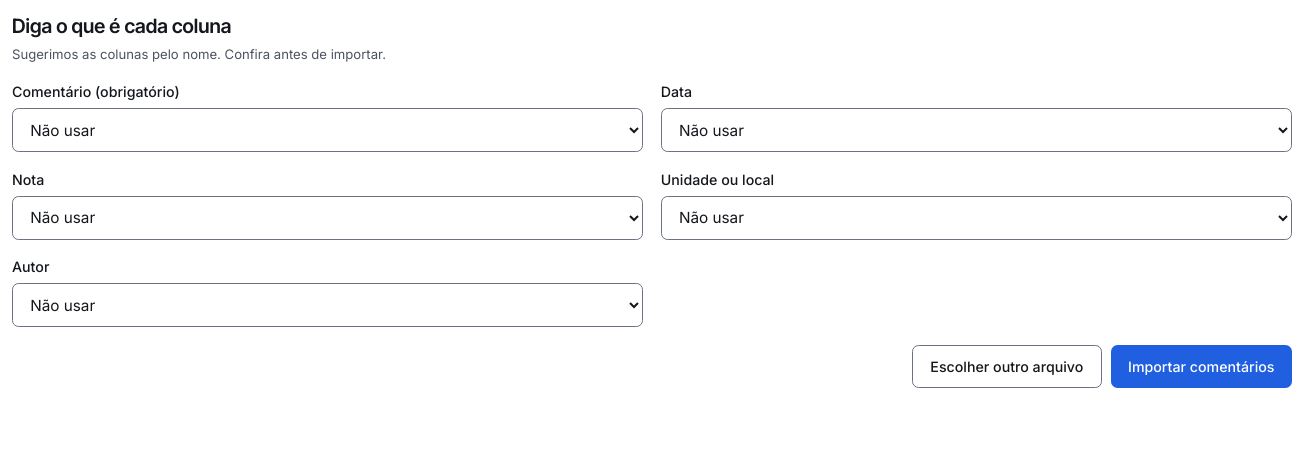
Test case: MapeamentoDeColunas › exige a coluna do comentário antes de importar
Click the button "Importar comentários": (1201, 366) [1110,344,1292,388]
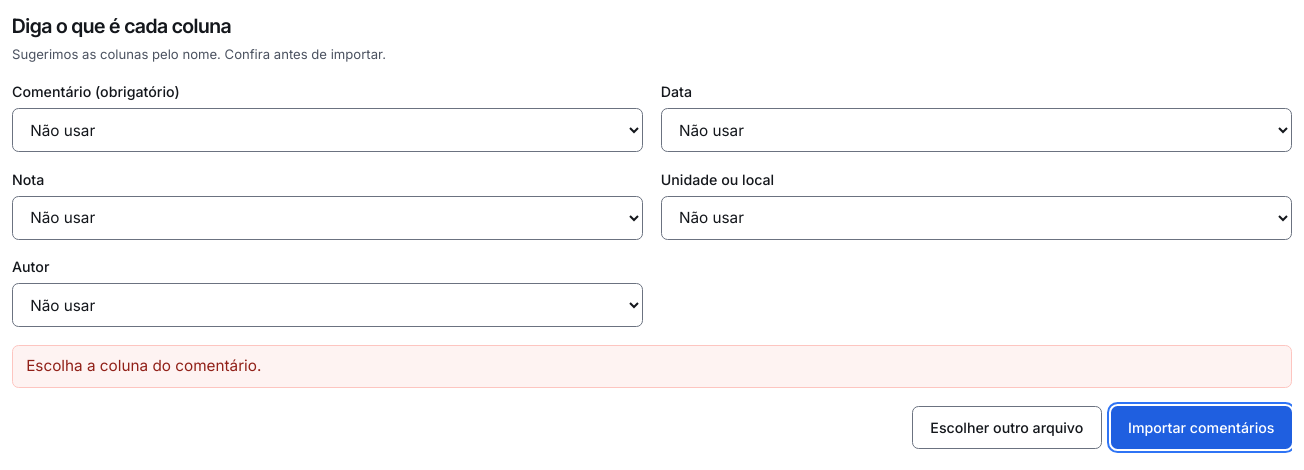
Now the message reads "Escolha a coluna do comentário.", box [26,356,261,375]
